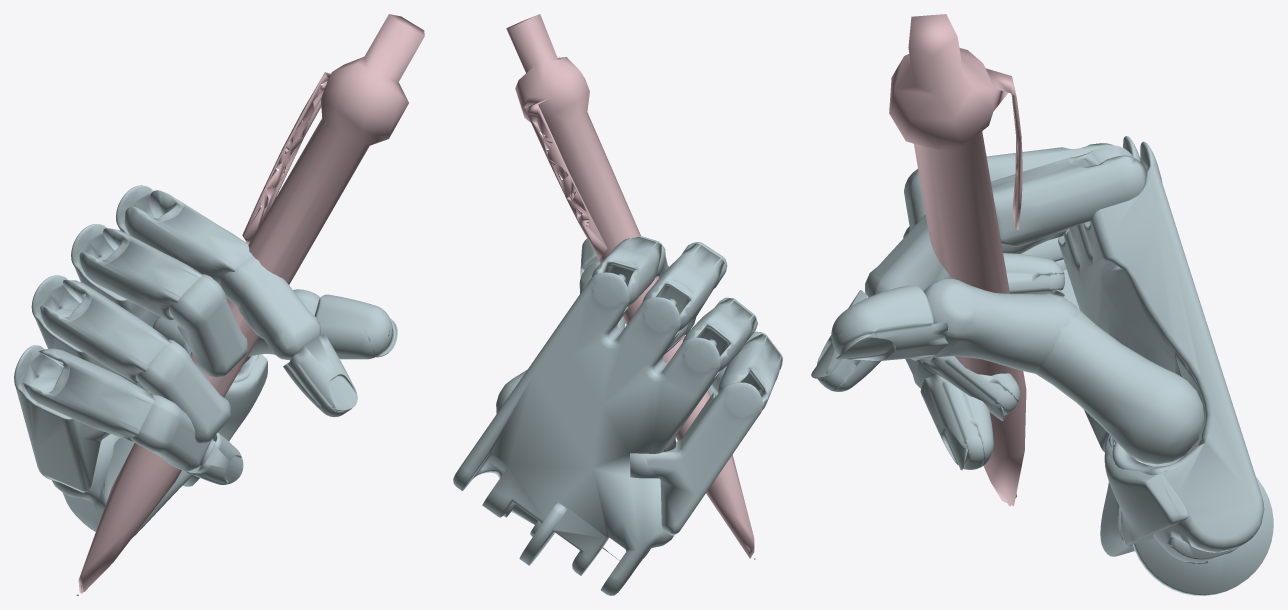
3 renders of one model, left to right at view 1: azimuth 30°, elevation 25°; view 2: azimuth 150°, elevation 25°; view 3: azimuth 270°, elevation 25°, orthographic. The views are drawn at different scales.
Parts seen in each view (by area): view 1: world; view 2: world; view 3: world.
Part boxes in pixels (<box>): world: <box>14,14,424,595</box>; world: <box>453,14,782,595</box>; world: <box>811,14,1273,595</box>.
Size of the model in its own units: 0.1389 by 0.204 by 0.1257.
